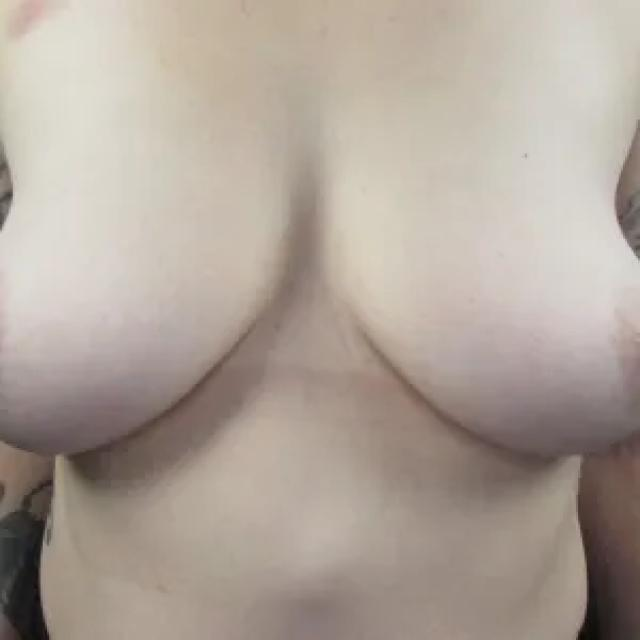Seno ileso: (313, 121, 640, 482), (0, 119, 300, 480)
